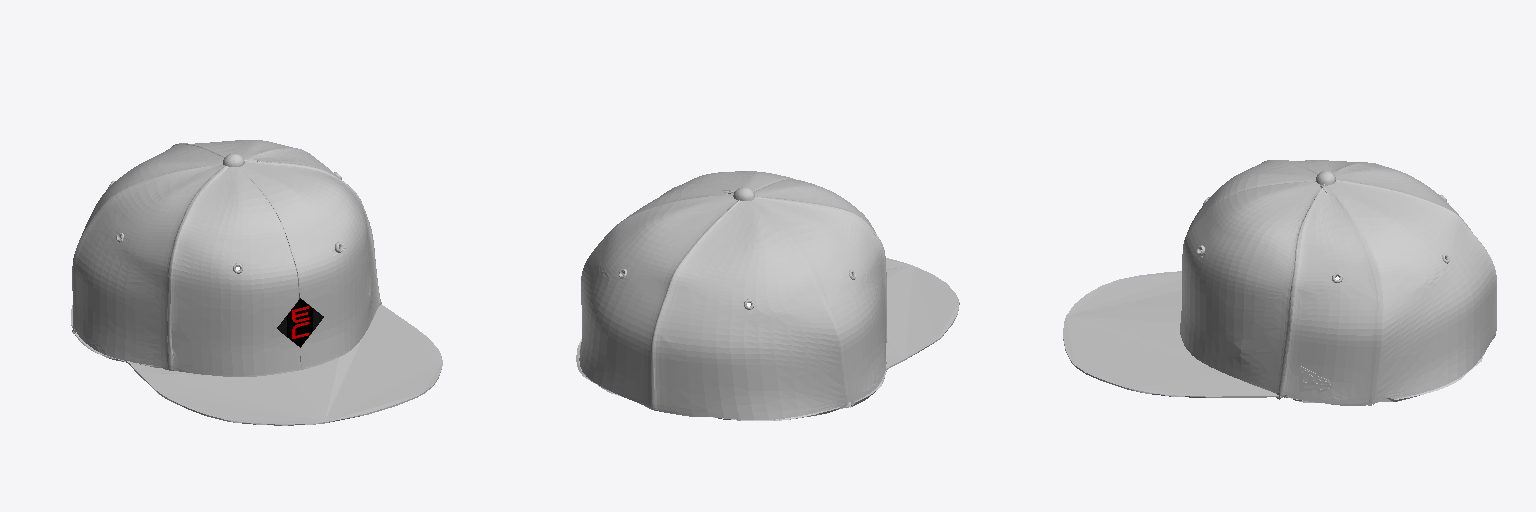
The picture shows the model from 3 angles: view 1: azimuth 30°, elevation 25°; view 2: azimuth 150°, elevation 25°; view 3: azimuth 270°, elevation 25°; orthographic projection.
Visible parts, largest first — view 1: Plane001, Object001, Plane002; view 2: Plane001, Object001; view 3: Plane001, Object001.
Part boxes in pixels (bbox=[...]): Plane001: bbox=[71, 140, 381, 376]; Object001: bbox=[125, 304, 442, 425]; Plane002: bbox=[277, 298, 323, 347]; Plane001: bbox=[576, 171, 886, 420]; Object001: bbox=[886, 258, 959, 369]; Plane001: bbox=[1180, 160, 1496, 405]; Object001: bbox=[1063, 271, 1278, 397].
Size of the model in its own units: 1230 by 716 by 1668.
4 materials, 1 textured.